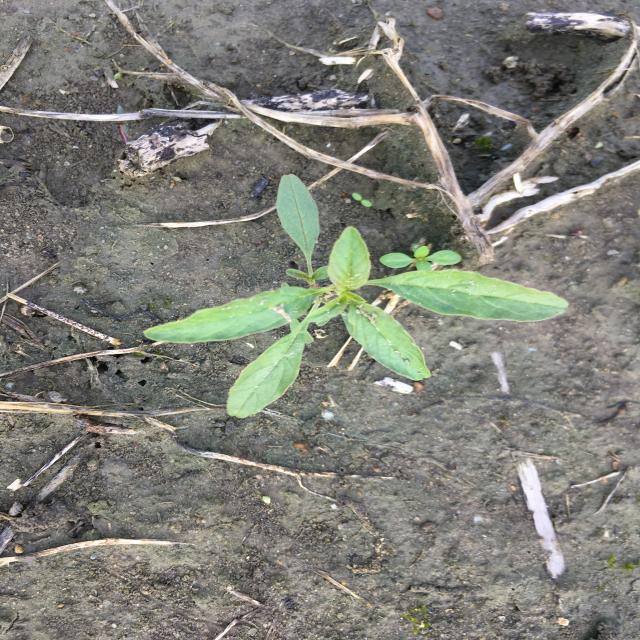Waterhemp: (142, 172, 572, 420)
